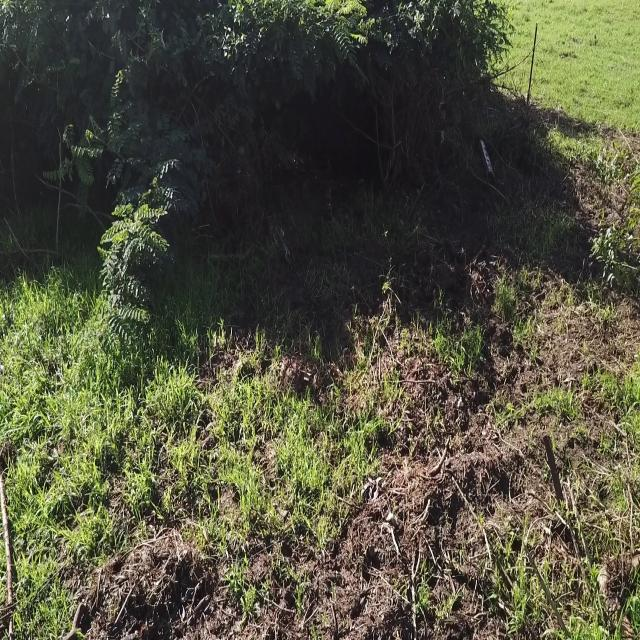Mysore-Thorn-Weed: (101, 91, 192, 373), (238, 0, 382, 91)
